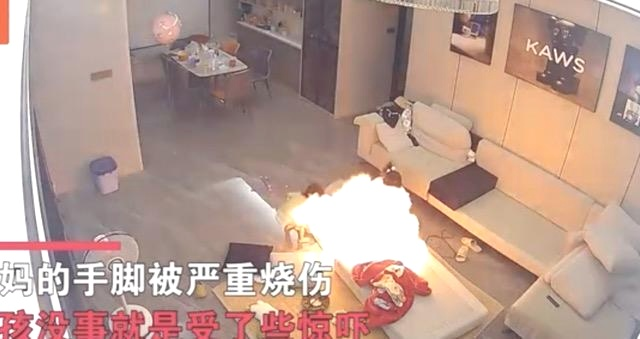fire: (304, 164, 427, 280)
